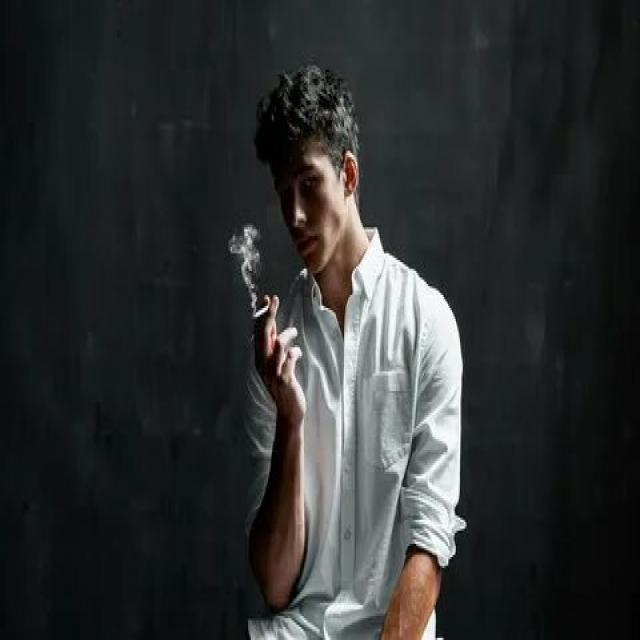smoke: (253, 300, 275, 324)
